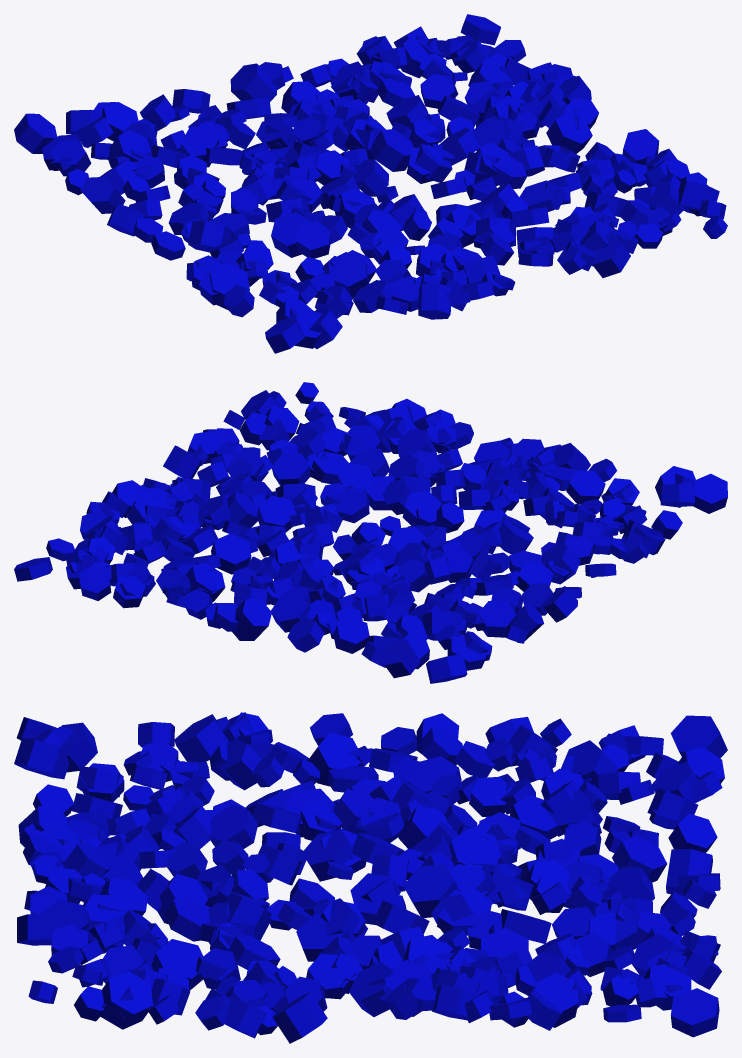
Rendered from Mine (1).fbx.
3 views of the same model, one above another, from view 1: azimuth 30°, elevation 25°; view 2: azimuth 150°, elevation 25°; view 3: azimuth 270°, elevation 25° (orthographic). The views are drawn at different scales.
Parts seen in each view (by area): view 1: Cylinder - copy.001 - copy Duplicator|Cylinder - copy.001 -  (×85); view 2: Cylinder - copy.001 - copy Duplicator|Cylinder - copy.001 -  (×74); view 3: Cylinder - copy.001 - copy Duplicator|Cylinder - copy.001 -  (×162).
Boxes of the visible parts, x1,y1,x2,y2 form: Cylinder - copy.001 - copy Duplicator|Cylinder - copy.001 -  (×85): (14,14,719,353); Cylinder - copy.001 - copy Duplicator|Cylinder - copy.001 -  (×74): (14,390,727,683); Cylinder - copy.001 - copy Duplicator|Cylinder - copy.001 -  (×162): (14,713,727,1043).
Size of the model in its own units: 1129 by 106 by 1134.
